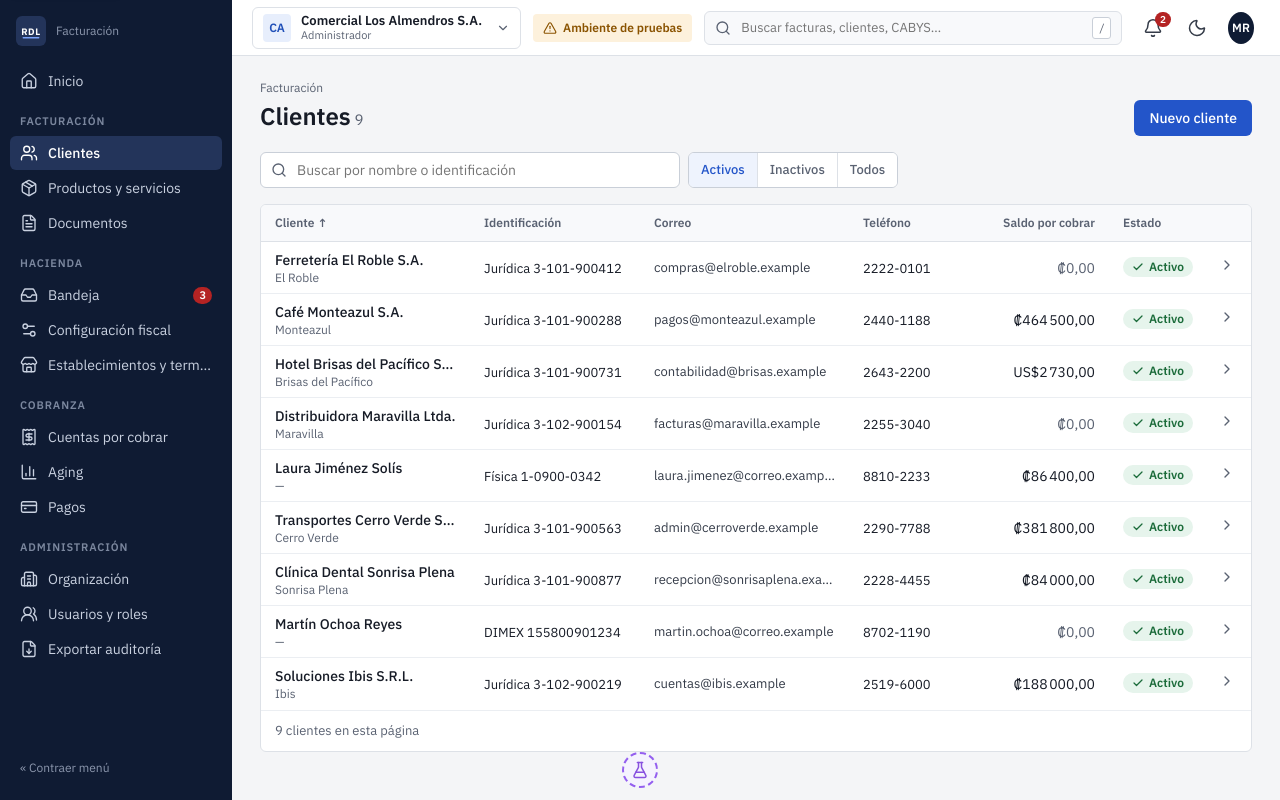
Scenario: pantalla 7 · clientes › filtra inactivos y busca
Expected: the text "Café Monteazul S.A." is shown, x1=275 y1=302 x2=404 y2=320
Click the radio button labelled "Inactivos" at (798, 170), box x1=758 y1=153 x2=838 y2=187
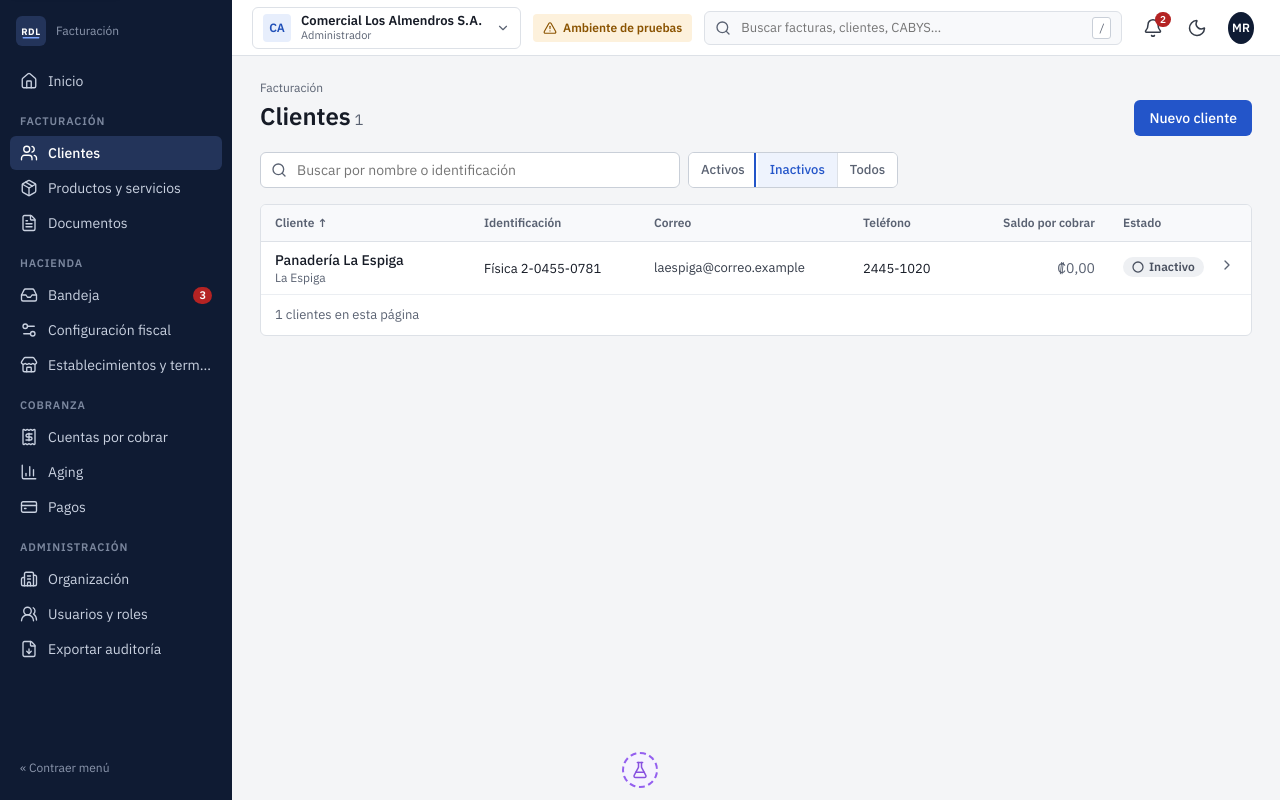
Now the text "Panadería La Espiga" is shown, box x1=275 y1=251 x2=404 y2=269
Click the radio button labelled "Todos" at (868, 170), box x1=838 y1=153 x2=897 y2=187
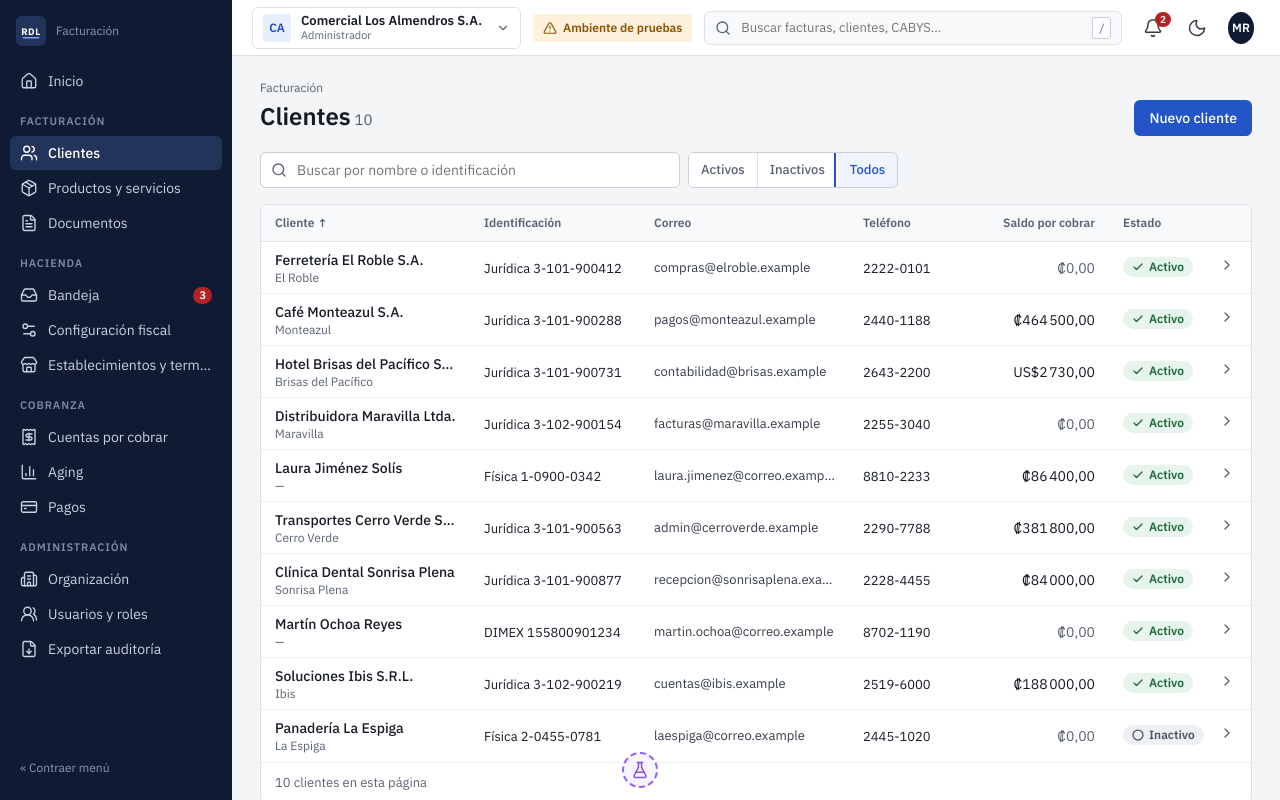
Type "zzz" into the search field labelled "Buscar por nombre o identificación" at (482, 170), box x1=295 y1=159 x2=669 y2=181
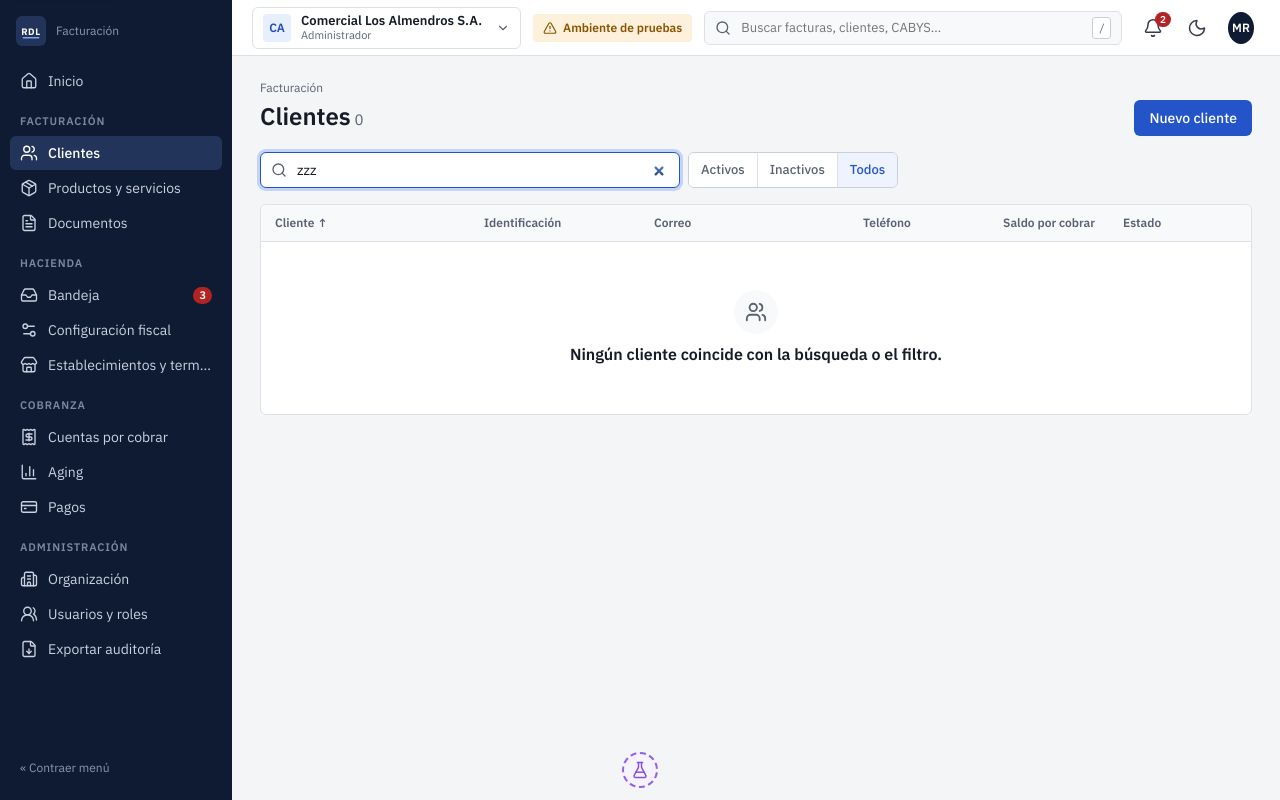
Now the text "Ningún cliente coincide con la búsqueda o el filtro." is shown, box x1=570 y1=342 x2=942 y2=366
